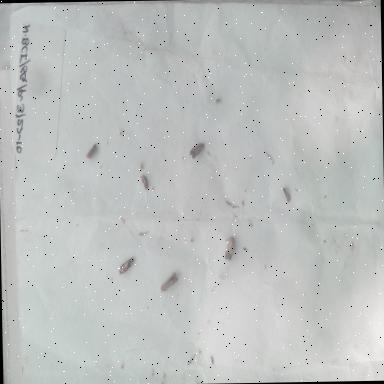pbw: (158, 264, 184, 296), (185, 136, 209, 168), (219, 234, 242, 266), (116, 254, 137, 278), (137, 171, 153, 193), (85, 141, 99, 164)
